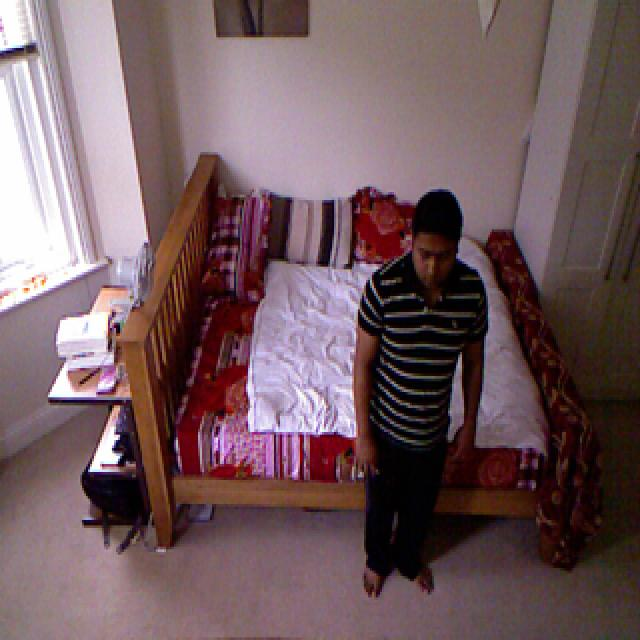standing: (354, 185, 493, 604)
